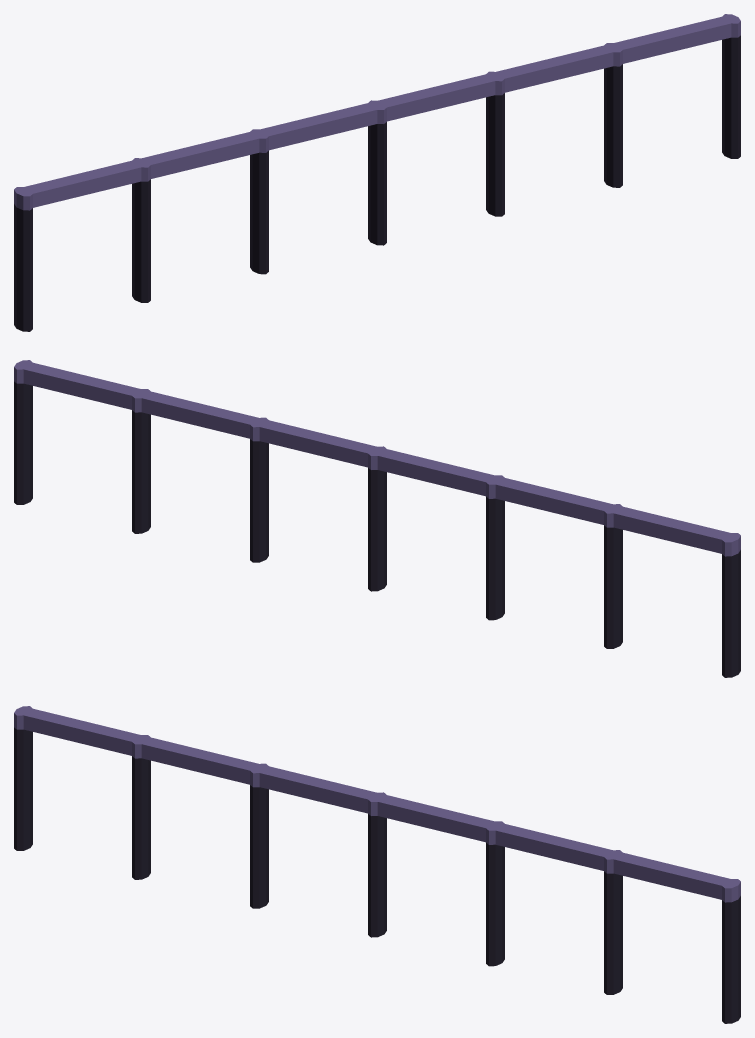
File: Railing.fbx
3 renders of one model, top to bottom at view 1: azimuth 30°, elevation 25°; view 2: azimuth 150°, elevation 25°; view 3: azimuth 330°, elevation 25°, orthographic.
Parts seen in each view (by area): view 1: Railing; view 2: Railing; view 3: Railing.
Part boxes in pixels (box(x1,y1,x2,y2)): Railing: box(14, 14, 740, 331); Railing: box(14, 360, 740, 677); Railing: box(14, 706, 740, 1023).
Bounding box in the file's own units: 6 × 1.08 × 0.1882.
